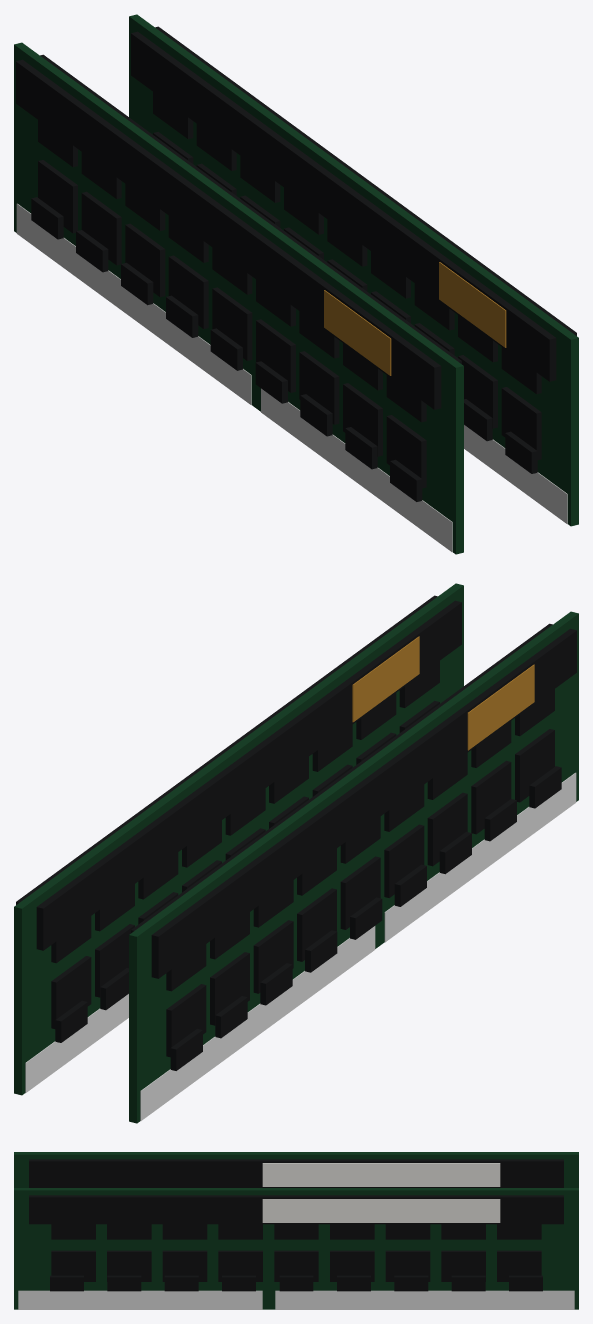
The model's file is hw_ram_ddr4_256gb.glb.
3 renders of one model, top to bottom at view 1: azimuth 30°, elevation 25°; view 2: azimuth 150°, elevation 25°; view 3: azimuth 270°, elevation 25°, orthographic. The views are drawn at different scales.
Visible parts, largest first — view 1: Stick_1, Body; view 2: Stick_1, Body; view 3: Body, Stick_1.
Boxes of the visible parts, x1,y1,x2,y2 form: Stick_1: (14, 42, 463, 554); Body: (129, 14, 578, 526); Stick_1: (129, 611, 578, 1123); Body: (14, 583, 463, 1095); Body: (14, 1188, 578, 1309); Stick_1: (14, 1152, 578, 1187).
Size of the model in its own units: 0.0252 by 0.031 by 0.133.
